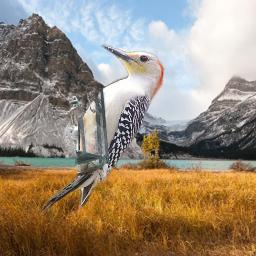Woodpecker: (39, 42, 168, 215)
